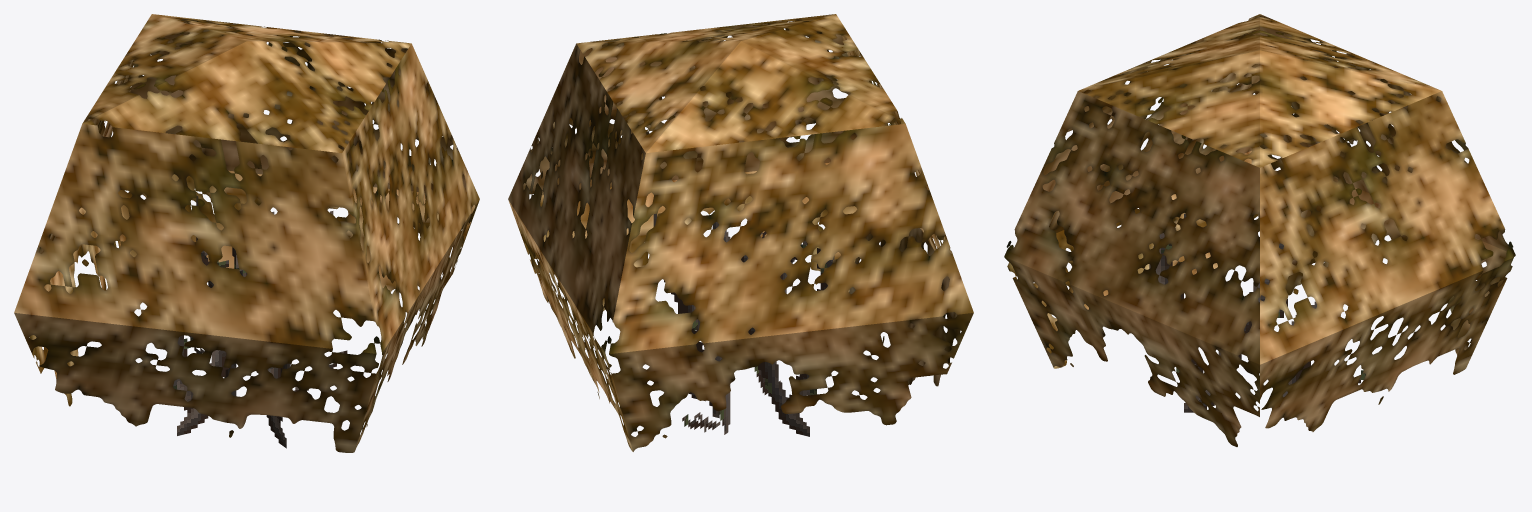
File: bush_end_roots_autumn.fbx
3 renders of one model, left to right at view 1: azimuth 30°, elevation 25°; view 2: azimuth 150°, elevation 25°; view 3: azimuth 270°, elevation 25°, orthographic. The views are drawn at different scales.
Parts seen in each view (by area): view 1: bush_end_roots_autumn; view 2: bush_end_roots_autumn; view 3: bush_end_roots_autumn.
Part boxes in pixels (x1,y1,x2,y2): bush_end_roots_autumn: [14, 14, 479, 452]; bush_end_roots_autumn: [508, 14, 973, 451]; bush_end_roots_autumn: [1004, 14, 1515, 446].
Bounding box in the file's own units: 139 × 110 × 139.
Materials: 2 (2 with a texture image).
